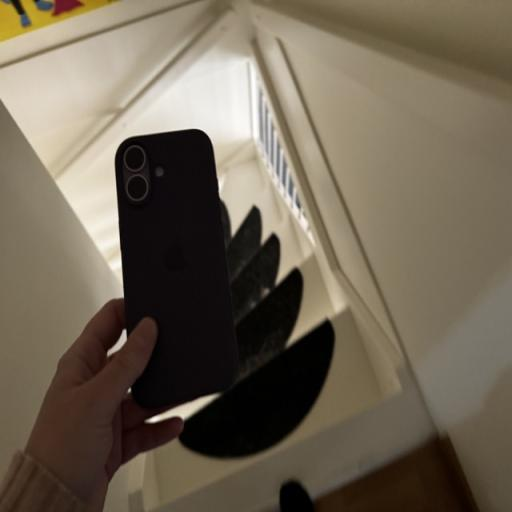phone: (112, 128, 241, 434)
